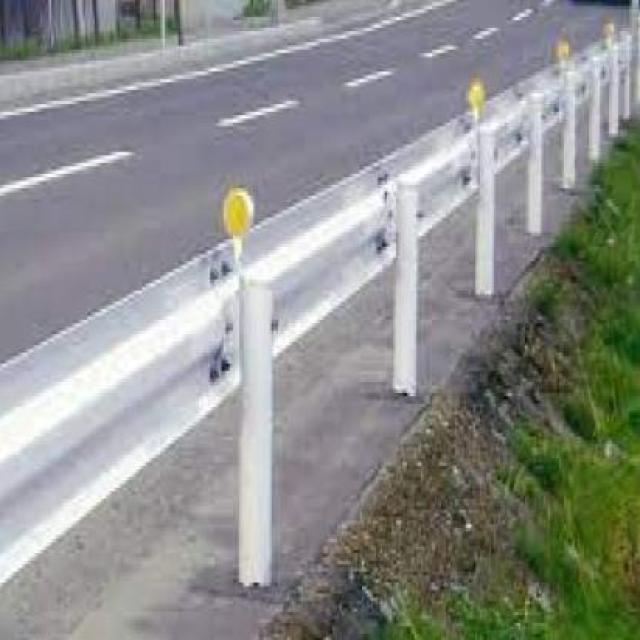Guard rail: (0, 15, 621, 599)
